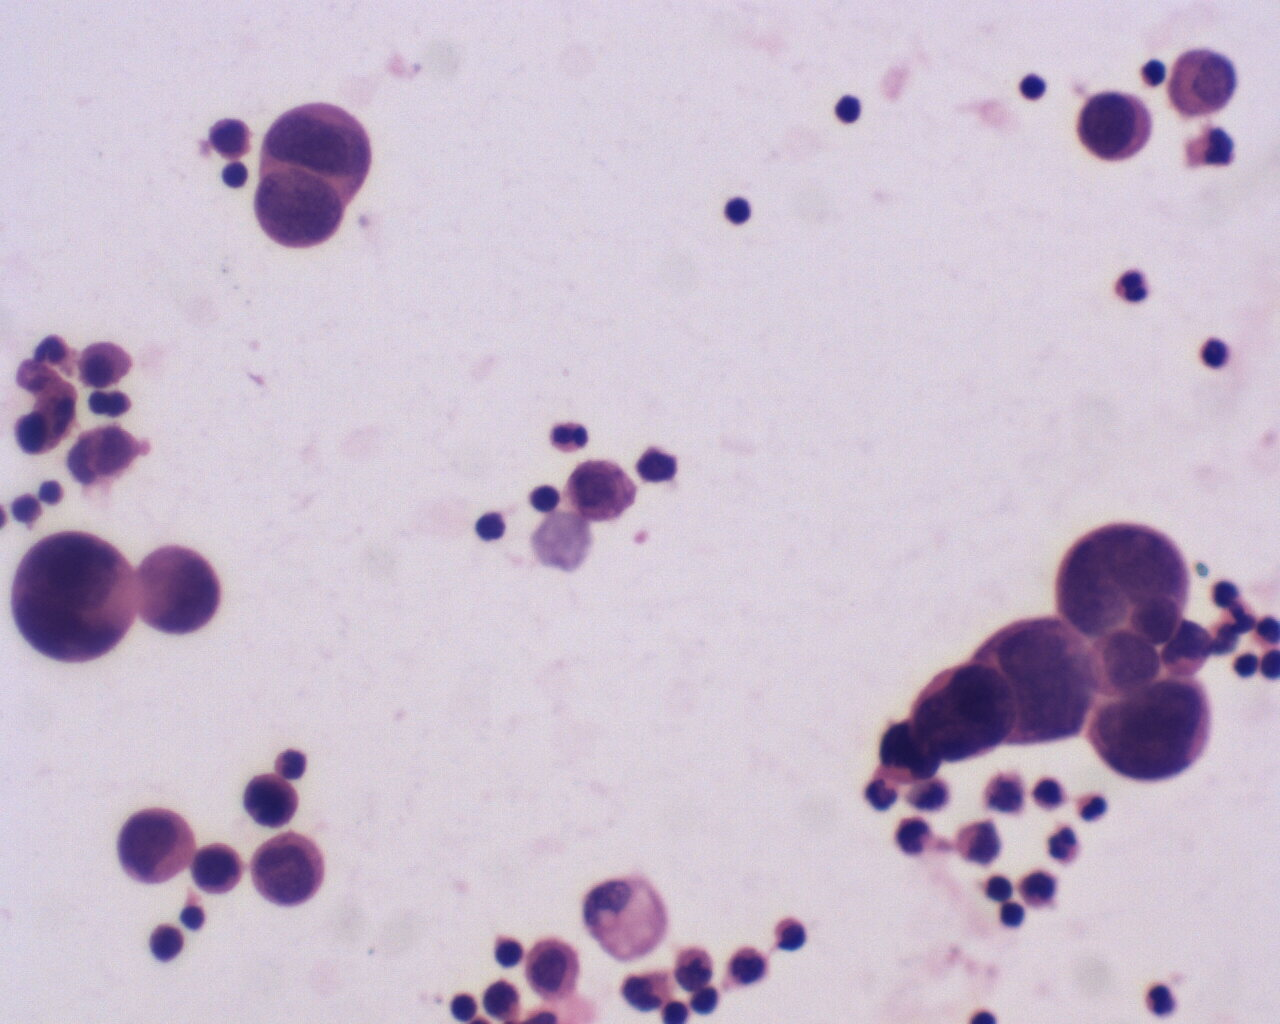ab: (1048, 520, 1191, 639), (9, 530, 133, 664), (1087, 669, 1214, 783), (256, 97, 385, 184), (907, 659, 1018, 760), (246, 164, 353, 252), (135, 544, 224, 638), (114, 807, 195, 886), (250, 830, 330, 906), (1077, 86, 1153, 167), (1163, 44, 1241, 120), (564, 453, 641, 526), (520, 936, 583, 1002), (243, 769, 299, 829), (189, 842, 249, 894)
normal: (1111, 263, 1158, 310), (492, 929, 531, 976), (470, 503, 511, 546), (1046, 825, 1086, 869), (546, 416, 595, 450), (522, 478, 562, 517), (717, 189, 755, 228), (216, 155, 254, 193), (443, 988, 484, 1024), (1016, 67, 1052, 106), (981, 872, 1019, 908), (834, 89, 868, 127), (177, 900, 213, 935), (996, 902, 1031, 934), (1234, 648, 1259, 681)
